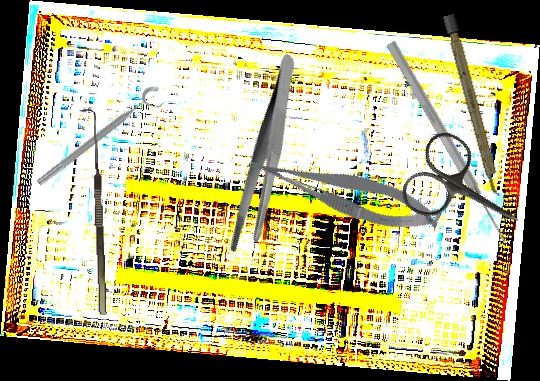Dressing Forceps: (188, 53, 345, 260)
Fixation Ring: (33, 82, 170, 197)
Hook Surgical: (81, 108, 107, 316)
Iris Scissors: (394, 124, 540, 260)
Micro Scissor: (244, 132, 445, 249)
Pusher: (383, 39, 512, 246)
Scalpel Handle: (442, 13, 504, 199)
